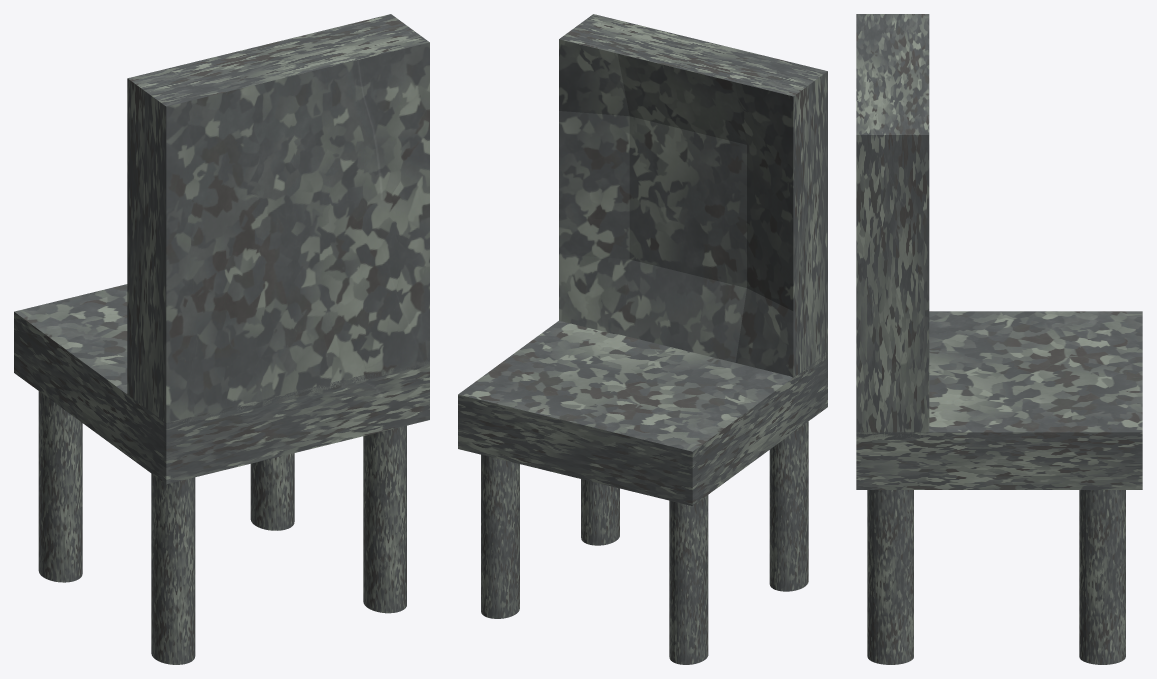
The model's file is chair2.fbx.
The picture shows the model from 3 angles, left to right: view 1: azimuth 30°, elevation 25°; view 2: azimuth 150°, elevation 25°; view 3: azimuth 270°, elevation 25°; orthographic projection. The views are drawn at different scales.
Visible parts, largest first — view 1: Cube; view 2: Cube; view 3: Cube.
Part boxes in pixels (x1,y1,x2,y2): Cube: [14, 14, 429, 664]; Cube: [458, 14, 827, 664]; Cube: [856, 14, 1142, 664].
Size of the model in its own units: 200 by 412 by 200.
Materials: 1 (1 with a texture image).
